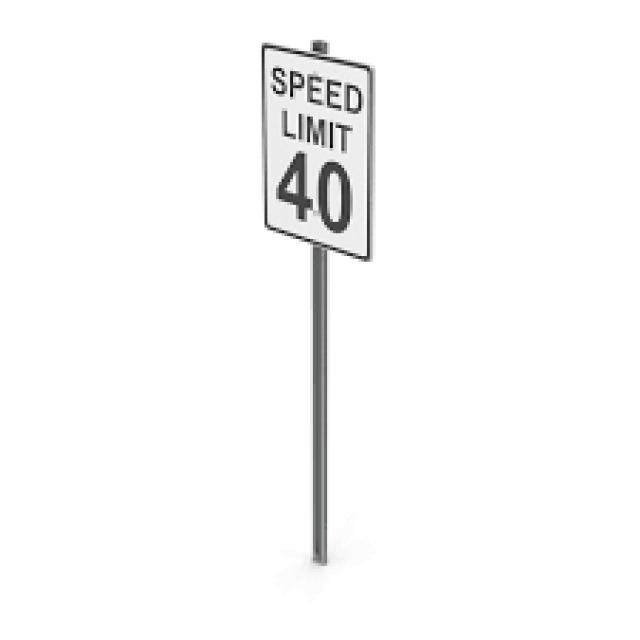speedLimit40: (260, 41, 371, 255)
